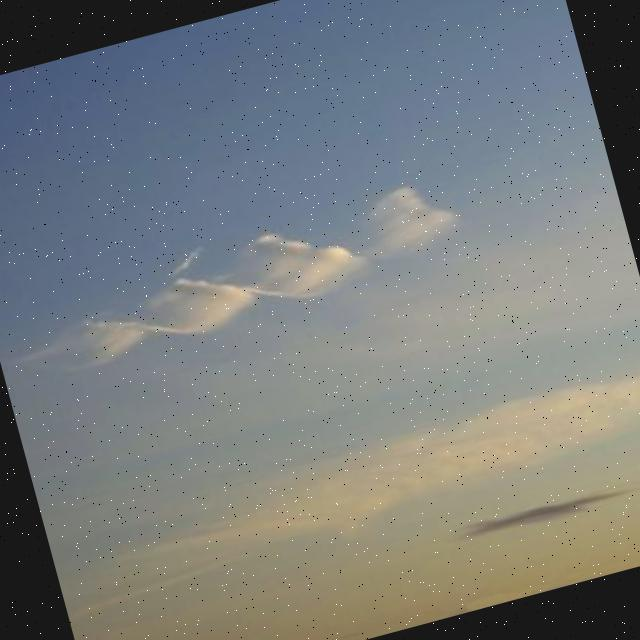Cc: (1, 147, 516, 425)
